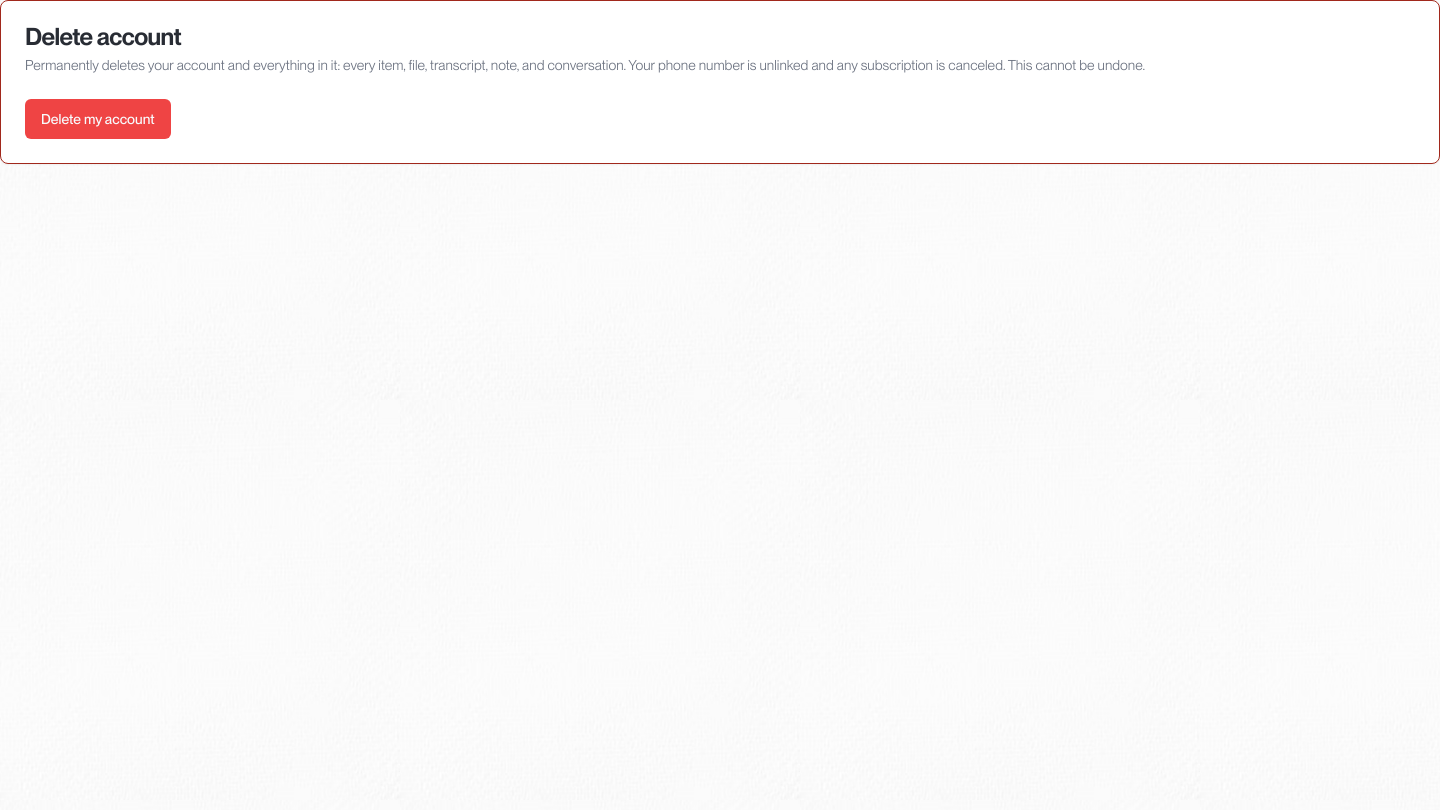
it: DeleteAccountSection › calls delete-account, signs out locally, and lands on the homepage
The image size is (1440, 810).
Later steps or results of the test are not shown.
Step 1. Click the button "Delete my account" → (98, 119), box 25,99 -> 171,139
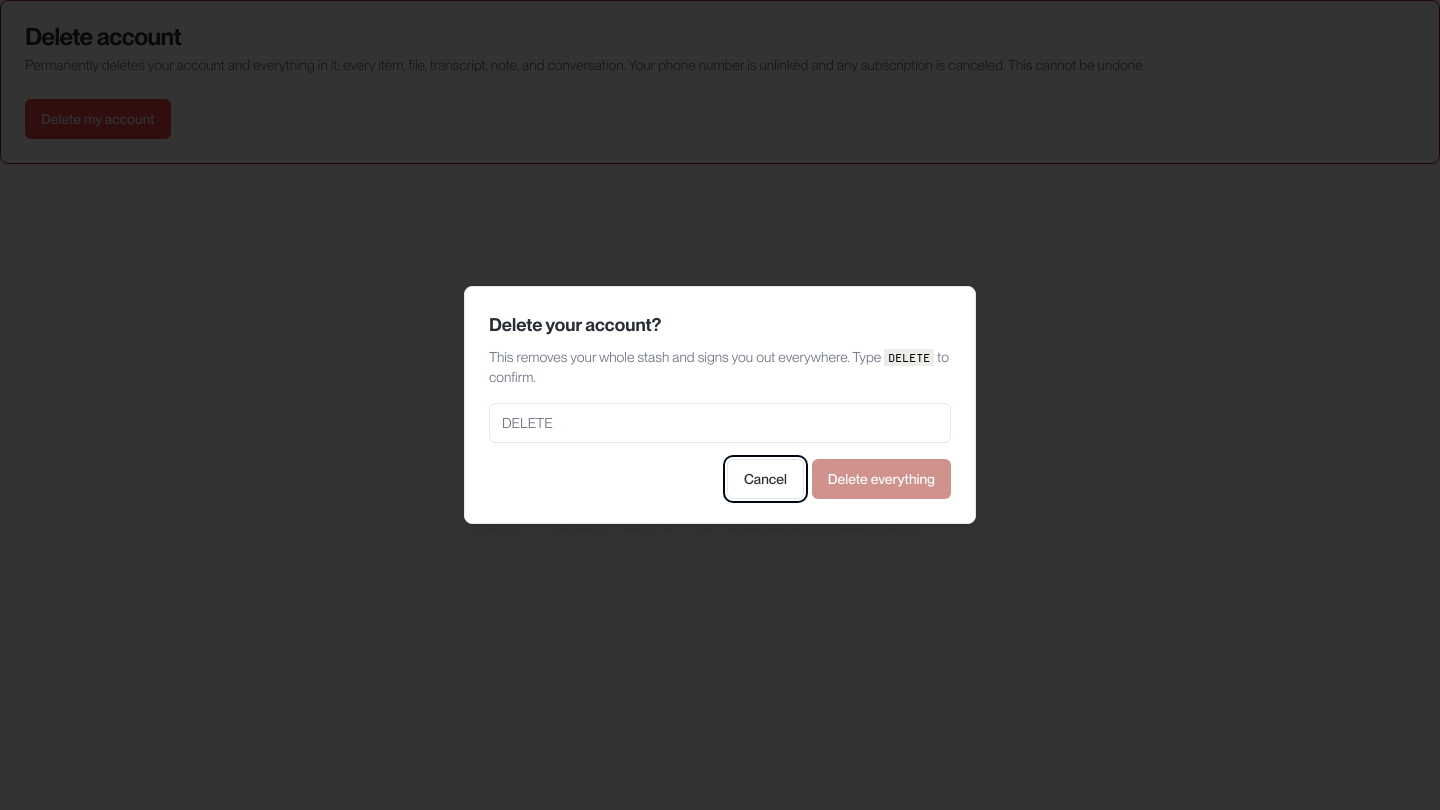
Expected: the dialog is shown, 464,286 -> 976,524
